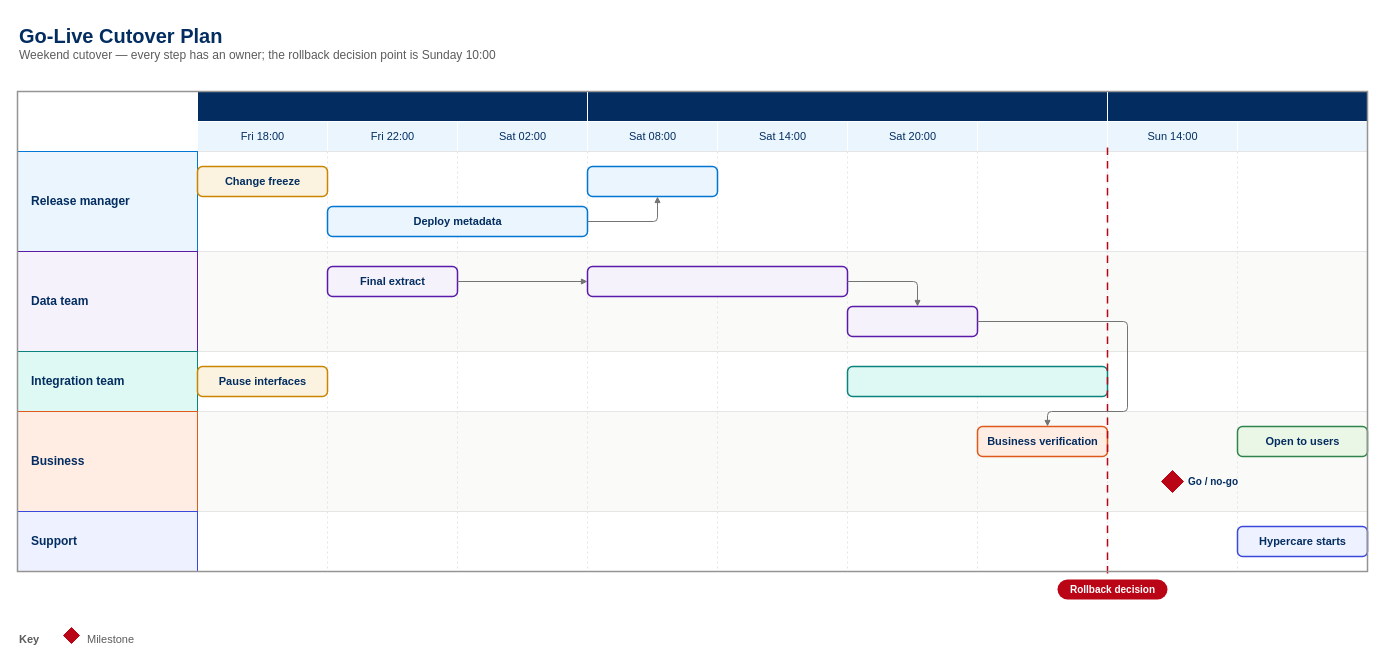
Image size: 1386x663. Some labels were removed from this diagram. The box of each missing label's shape, as (x1, y1, x2, y2) in pixels:
Enable interfaces: (846, 365, 1108, 397)
Freeze & deploy: (196, 90, 588, 122)
Go live: (1106, 90, 1368, 122)
Load accounts, contacts, cases: (586, 265, 848, 297)
Migrate & verify: (586, 90, 1108, 122)
Mon 07:00: (1236, 120, 1368, 152)
Reconcile: (846, 305, 978, 337)
Smoke test: (586, 165, 718, 197)
Sun 08:00: (976, 120, 1108, 152)
